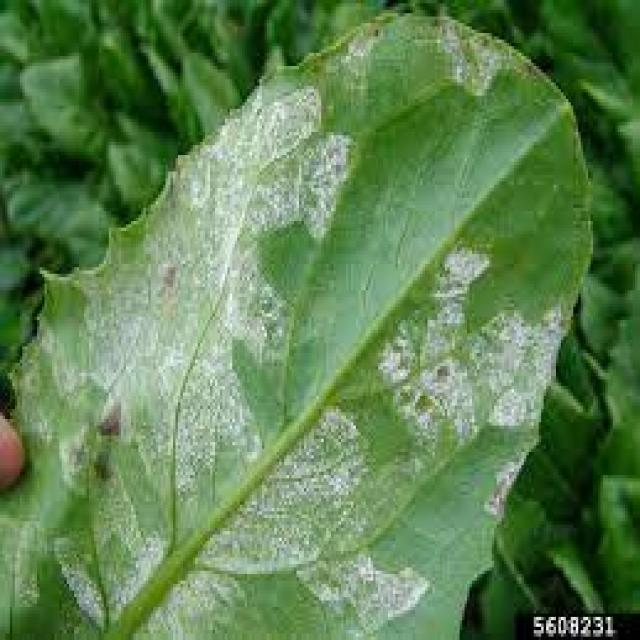Mature: (135, 248, 444, 634)
